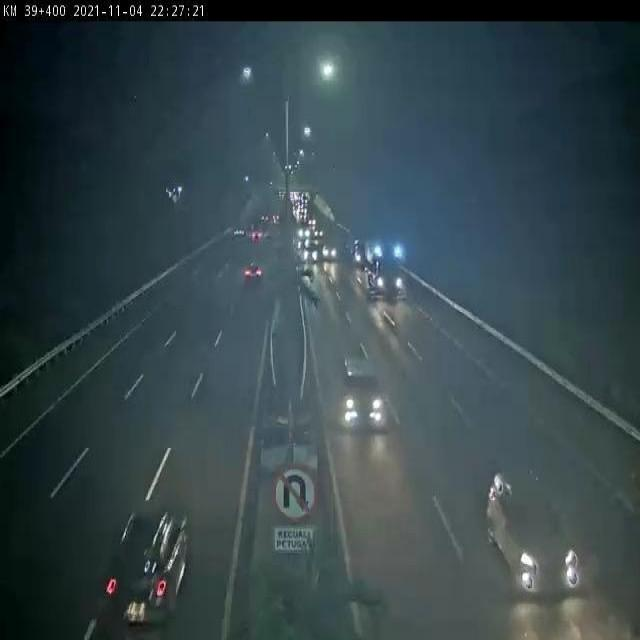car: (480, 468, 580, 595), (107, 508, 188, 627), (340, 355, 384, 428), (242, 261, 262, 288)
truck-l-: (365, 239, 405, 297)
